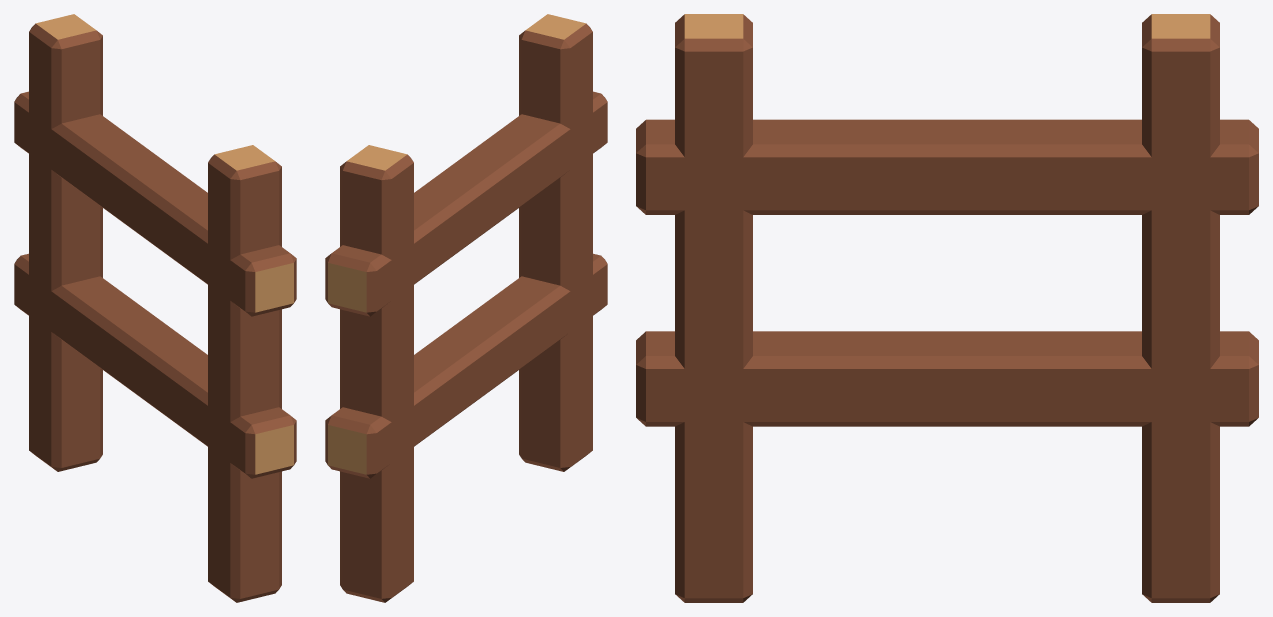
Rendered from Wooden Fence.fbx.
3 views of the same model, side by side, from view 1: azimuth 30°, elevation 25°; view 2: azimuth 150°, elevation 25°; view 3: azimuth 270°, elevation 25° (orthographic). The views are drawn at different scales.
Parts seen in each view (by area): view 1: Wooden_Fence; view 2: Wooden_Fence; view 3: Wooden_Fence.
Boxes of the visible parts, bbox=[...] form: Wooden_Fence: bbox=[14, 14, 296, 602]; Wooden_Fence: bbox=[325, 14, 607, 602]; Wooden_Fence: bbox=[636, 14, 1258, 602].
Size of the model in its own units: 0.05 by 0.4 by 0.4.
